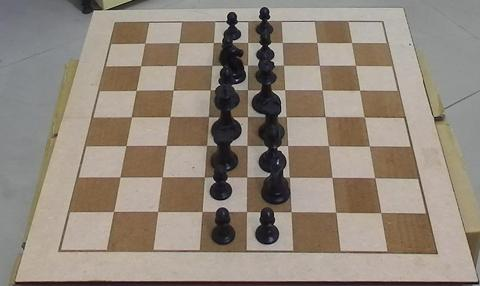xcorner: (348, 38, 358, 48), (313, 38, 323, 48), (315, 61, 325, 71), (279, 61, 289, 71), (243, 61, 253, 71), (207, 61, 217, 71), (171, 61, 181, 71), (135, 61, 145, 71), (356, 86, 366, 96), (318, 86, 328, 96), (280, 86, 290, 96), (243, 86, 253, 96), (205, 86, 215, 96), (168, 86, 178, 96), (120, 141, 130, 151), (371, 174, 381, 184), (242, 173, 252, 183), (199, 173, 209, 183), (157, 173, 167, 183), (114, 173, 124, 183), (377, 209, 387, 219), (332, 209, 342, 219), (242, 208, 252, 218), (197, 208, 207, 218), (152, 208, 162, 218), (278, 39, 288, 48), (243, 39, 253, 48), (174, 39, 184, 48), (140, 39, 149, 49), (352, 61, 361, 71), (131, 86, 140, 96), (321, 113, 331, 122), (282, 113, 292, 122), (126, 112, 135, 122), (366, 142, 375, 152), (325, 142, 334, 152), (283, 142, 293, 151), (242, 142, 252, 151), (161, 142, 171, 151), (328, 174, 338, 183), (285, 174, 295, 183), (287, 209, 297, 218), (108, 208, 118, 217), (209, 39, 218, 48), (361, 113, 370, 122), (243, 113, 252, 122), (204, 113, 213, 122), (165, 113, 174, 122), (202, 142, 211, 151)
